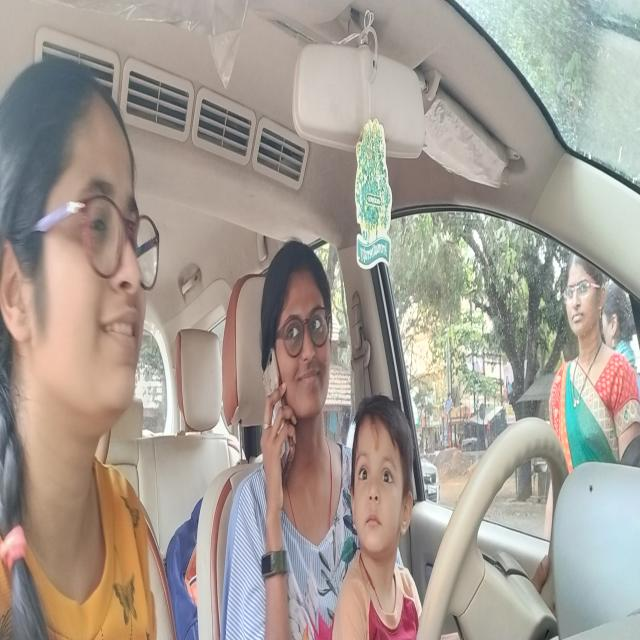child: (352, 406, 408, 548)
mobile: (259, 353, 290, 451)
person: (0, 66, 151, 418), (267, 245, 330, 427)
